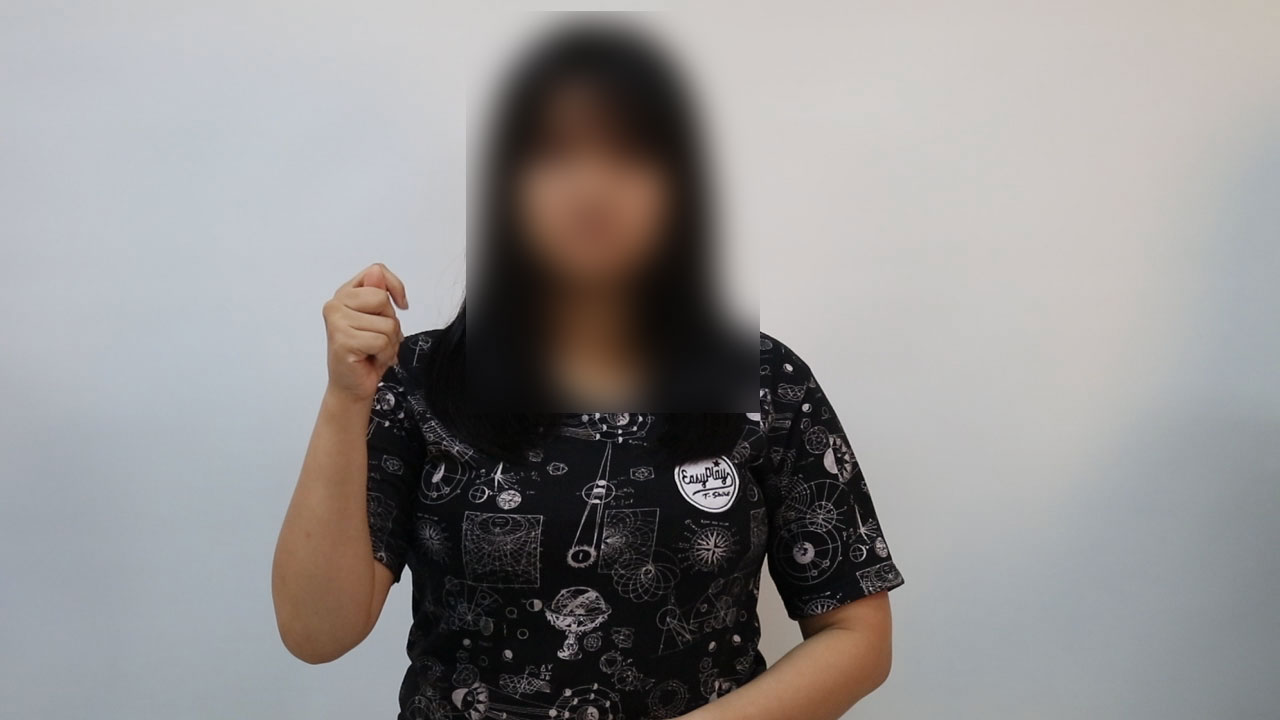tor: (303, 250, 429, 408)
